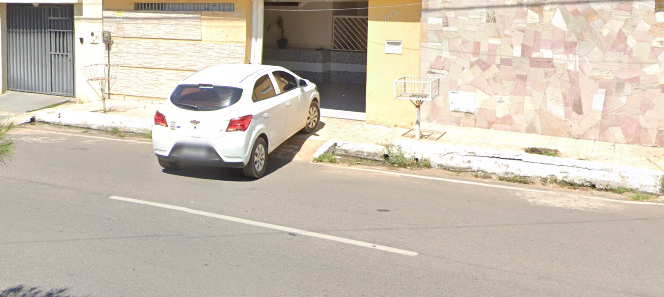car: (144, 54, 331, 193)
